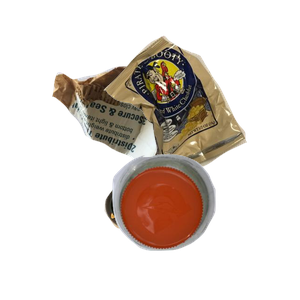cardboard: (50, 62, 228, 226)
glass: (102, 181, 246, 300)
plastic: (110, 152, 300, 300)
trash: (101, 33, 300, 206)
